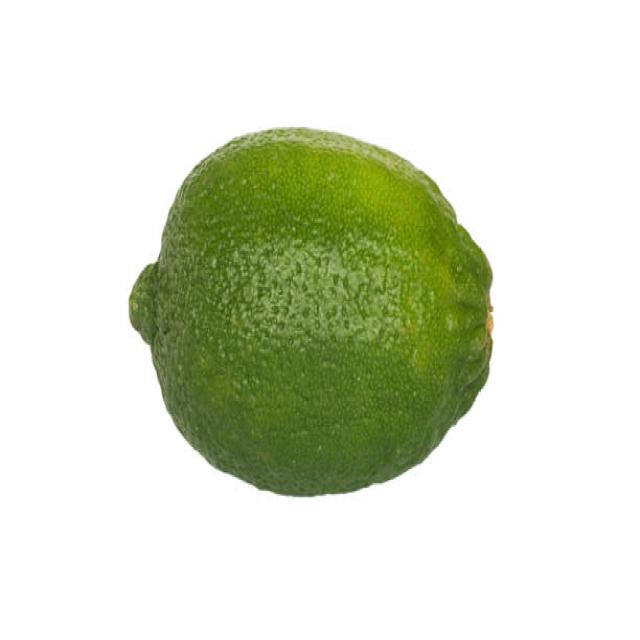Unripe: (127, 124, 495, 498)
